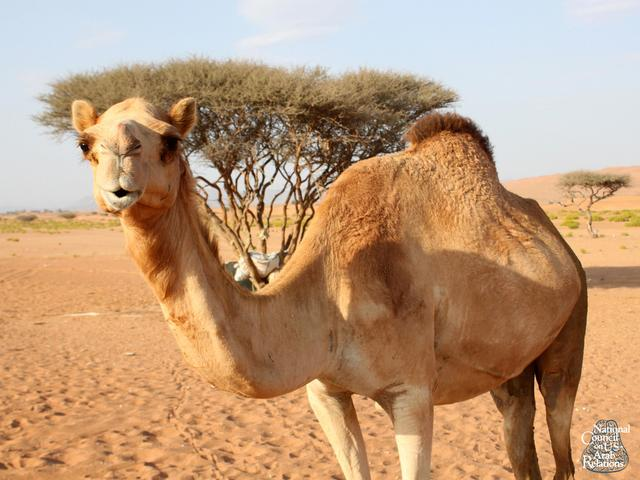camel: (46, 70, 608, 480)
